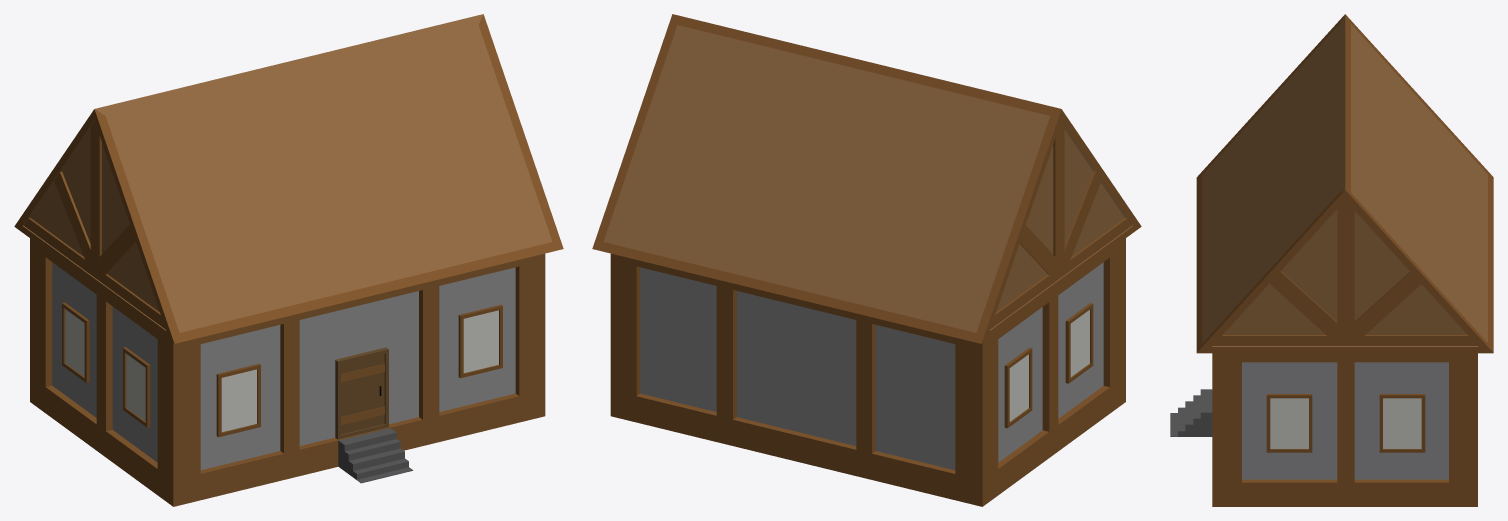
File: building_D.fbx
The picture shows the model from 3 angles, left to right: view 1: azimuth 30°, elevation 25°; view 2: azimuth 150°, elevation 25°; view 3: azimuth 270°, elevation 25°; orthographic projection. The views are drawn at different scales.
Visible parts, largest first — view 1: roof, wood_D, floor_st1_D, sidewood1, door_D, stairs_D, D_window2, D_window1, D_window4, D_window3; view 2: roof, floor_st1_D, wood_D, sidewood1, D_window3, D_window4; view 3: roof, wood_D, floor_st1_D, sidewood2, D_window5, D_window6, stairs_D.
Part boxes in pixels (<box>): roof: <box>14,14,563,343</box>; wood_D: <box>30,238,545,506</box>; floor_st1_D: <box>52,262,515,470</box>; sidewood1: <box>24,121,165,329</box>; door_D: <box>335,347,388,439</box>; stairs_D: <box>338,428,413,483</box>; D_window2: <box>458,304,502,378</box>; D_window1: <box>216,363,260,437</box>; D_window4: <box>62,302,89,383</box>; D_window3: <box>123,347,150,427</box>; roof: <box>592,14,1141,343</box>; floor_st1_D: <box>640,262,1103,470</box>; wood_D: <box>610,238,1125,506</box>; sidewood1: <box>990,121,1131,329</box>; D_window3: <box>1065,303,1093,383</box>; D_window4: <box>1004,347,1032,428</box>; roof: <box>1196,14,1493,353</box>; wood_D: <box>1212,353,1477,506</box>; floor_st1_D: <box>1242,362,1448,479</box>; sidewood2: <box>1213,200,1477,345</box>; D_window5: <box>1379,394,1425,452</box>; D_window6: <box>1266,394,1312,452</box>; stairs_D: <box>1170,389,1212,436</box>.
Bounding box in the file's own units: 23.99 × 20.46 × 18.64.
